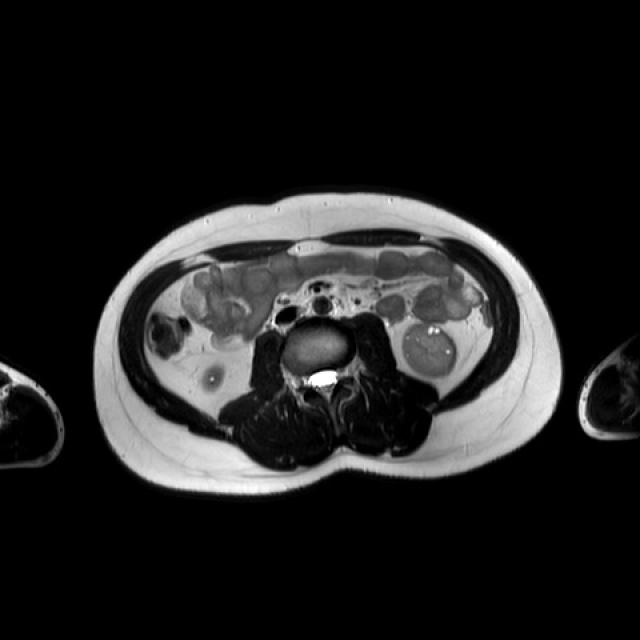sag: (206, 363, 225, 389)
sol: (402, 321, 455, 377)
